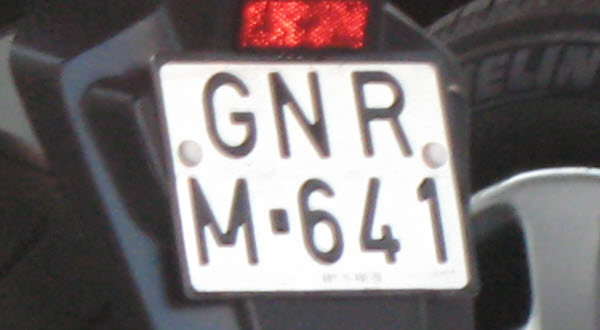license_plate: (158, 60, 472, 295)
